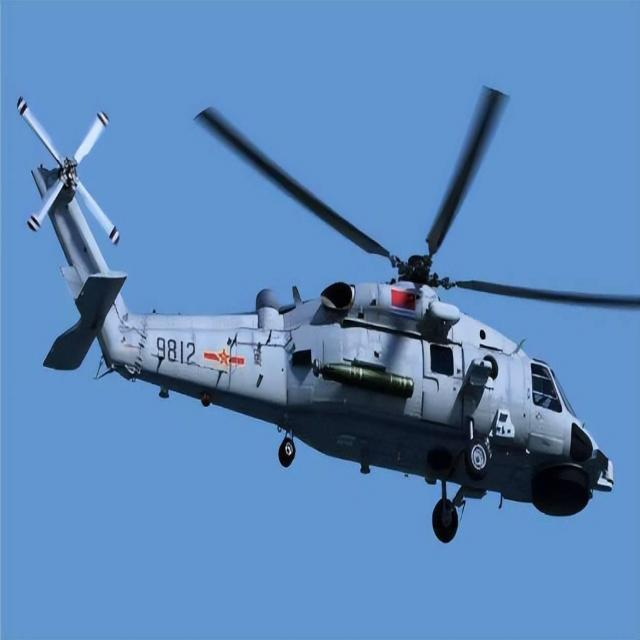MIL_HELO: (16, 88, 640, 543)
